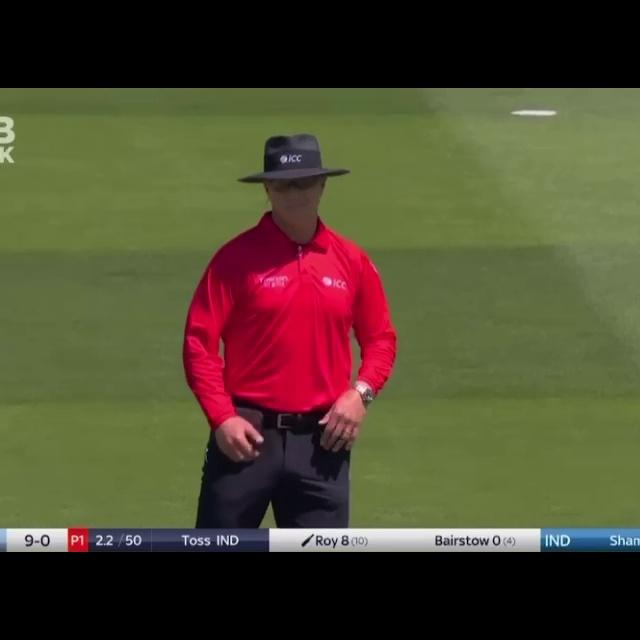umpire: (183, 120, 413, 528)
